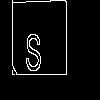S: (25, 25, 42, 71)
